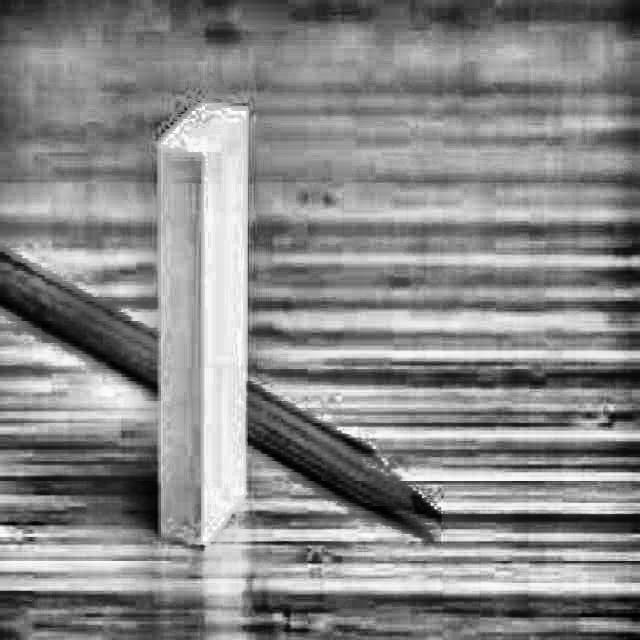eraser: (130, 100, 261, 558)
